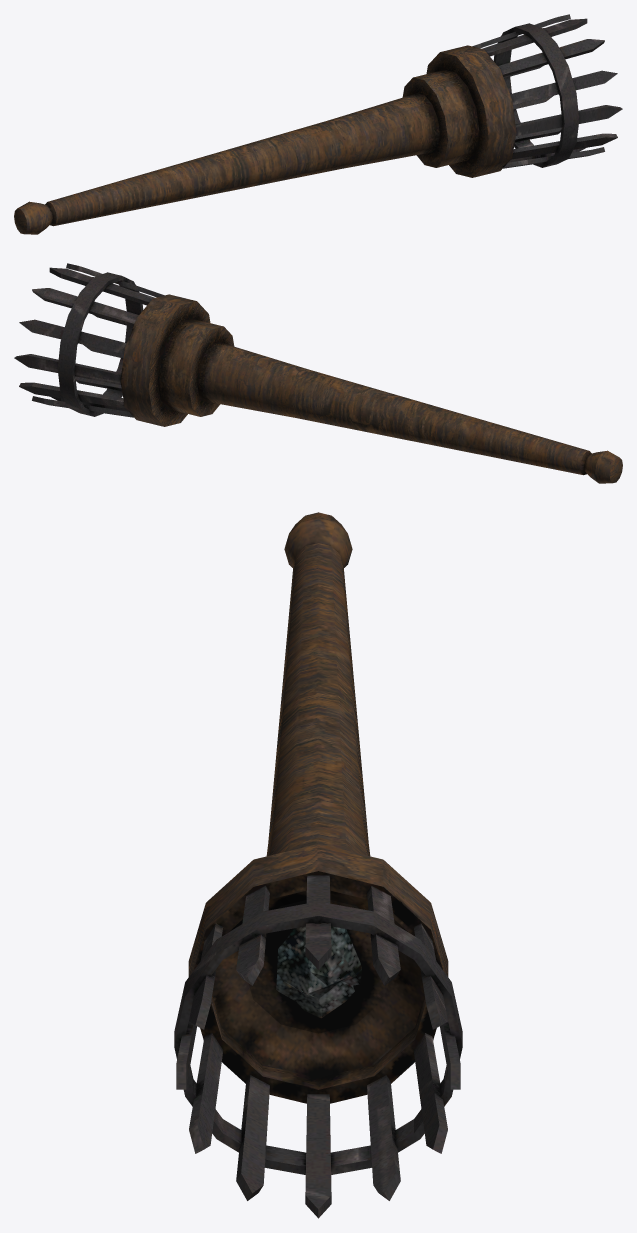
The model's file is castle_torch.dae.
3 renders of one model, top to bottom at view 1: azimuth 30°, elevation 25°; view 2: azimuth 150°, elevation 25°; view 3: azimuth 270°, elevation 25°, orthographic. The views are drawn at different scales.
Visible parts, largest first — view 1: castle_torch.001; view 2: castle_torch.001; view 3: castle_torch.001.
Boxes of the visible parts, x1,y1,x2,y2 form: castle_torch.001: (14,14,622,234); castle_torch.001: (14,263,622,483); castle_torch.001: (174,512,462,1218).
Size of the model in its own units: 3.82 by 0.8355 by 0.8355.
